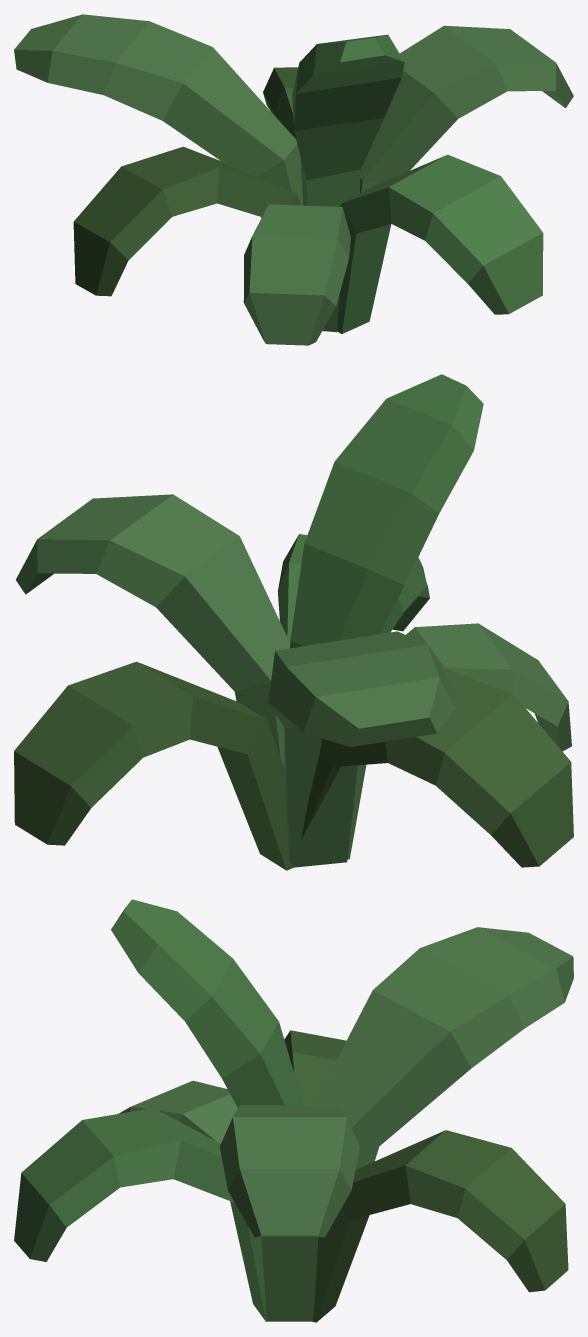
Rendered from dividers-bush.glb.
3 renders of one model, top to bottom at view 1: azimuth 30°, elevation 25°; view 2: azimuth 150°, elevation 25°; view 3: azimuth 270°, elevation 25°, orthographic. The views are drawn at different scales.
Parts seen in each view (by area): view 1: bush; view 2: bush; view 3: bush.
Part boxes in pixels (box(x1,y1,x2,y2)): bush: box(14, 14, 573, 345); bush: box(14, 374, 573, 870); bush: box(14, 899, 573, 1322).
Size of the model in its own units: 0.6005 by 0.4356 by 0.5843.
1 material, 1 textured.
